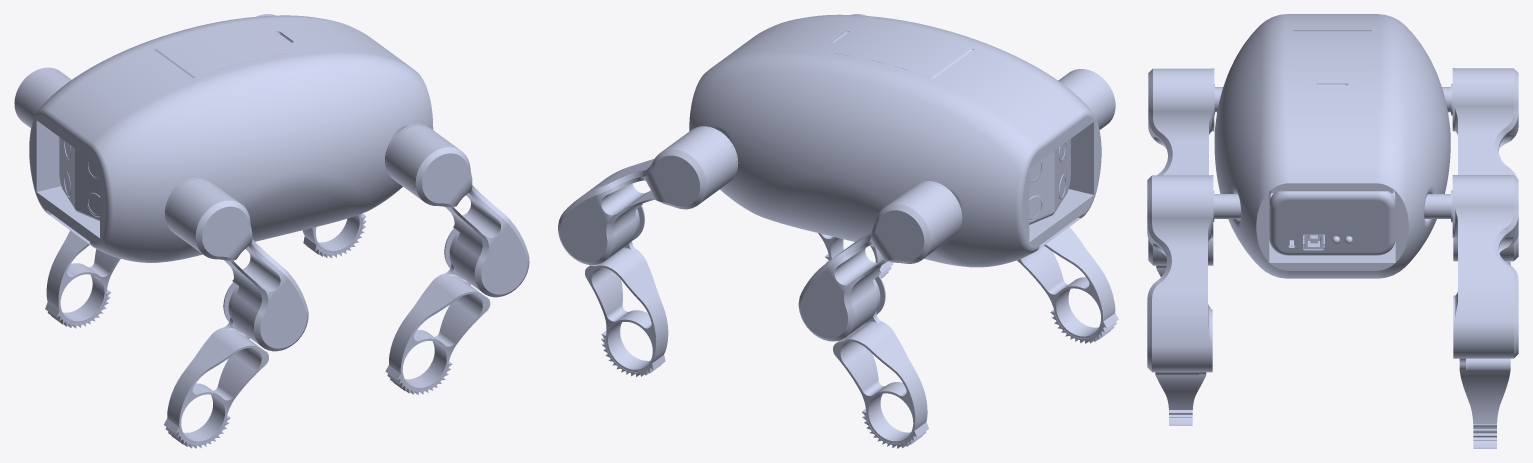
The model's file is Argos_asm.glb.
The picture shows the model from 3 angles, left to right: view 1: azimuth 30°, elevation 25°; view 2: azimuth 150°, elevation 25°; view 3: azimuth 270°, elevation 25°; orthographic projection. The views are drawn at different scales.
Parts seen in each view (by area): view 1: Guard_Shell-1, THIGH_RH-1 (×2), WRIST_RH_1-1 (×2), Container-1, WRIST_RH_1_MIR-1 (×2), THIGH_RH_MIR-1, NOSE_REMODEL-1; view 2: Guard_Shell-1, THIGH_RH_MIR-1 (×2), WRIST_RH_1_MIR-1 (×2), WRIST_RH_1-1, Container-1, NOSE_REMODEL-1, THIGH_RH-1; view 3: Guard_Shell-1, THIGH_RH-1 (×2), THIGH_RH_MIR-1 (×2), BODY_REMODEL-1, Container-1, WRIST_RH_1_MIR-1, BODY_REMODEL_LID-1, WRIST_RH_1-1, FOOT_GRIP-1 (×2), SHOULDER_PIN_MIR-1, SHOULDER_PIN-1.
Part boxes in pixels (x1,y1,x2,y2): Guard_Shell-1: (29, 15, 433, 262); THIGH_RH-1 (×2): (166, 125, 529, 351); WRIST_RH_1-1 (×2): (167, 231, 490, 443); Container-1: (155, 22, 302, 78); WRIST_RH_1_MIR-1 (×2): (46, 214, 361, 323); THIGH_RH_MIR-1: (14, 67, 71, 127); NOSE_REMODEL-1: (59, 137, 99, 221); Guard_Shell-1: (689, 14, 1101, 267); THIGH_RH_MIR-1 (×2): (558, 127, 960, 341); WRIST_RH_1_MIR-1 (×2): (585, 209, 927, 443); WRIST_RH_1-1: (1017, 227, 1115, 338); Container-1: (822, 22, 972, 78); NOSE_REMODEL-1: (1029, 139, 1070, 224); THIGH_RH-1: (1058, 69, 1115, 129); Guard_Shell-1: (1214, 14, 1450, 278); THIGH_RH-1 (×2): (1147, 68, 1211, 372); THIGH_RH_MIR-1 (×2): (1455, 68, 1518, 358); BODY_REMODEL-1: (1269, 205, 1395, 255); Container-1: (1293, 31, 1371, 85); WRIST_RH_1_MIR-1: (1459, 358, 1510, 423); BODY_REMODEL_LID-1: (1269, 191, 1395, 208); WRIST_RH_1-1: (1155, 372, 1206, 409); FOOT_GRIP-1 (×2): (1169, 410, 1496, 448); SHOULDER_PIN_MIR-1: (1424, 190, 1452, 222); SHOULDER_PIN-1: (1213, 190, 1240, 222).
Size of the model in its own units: 0.2933 by 0.2196 by 0.2351.
